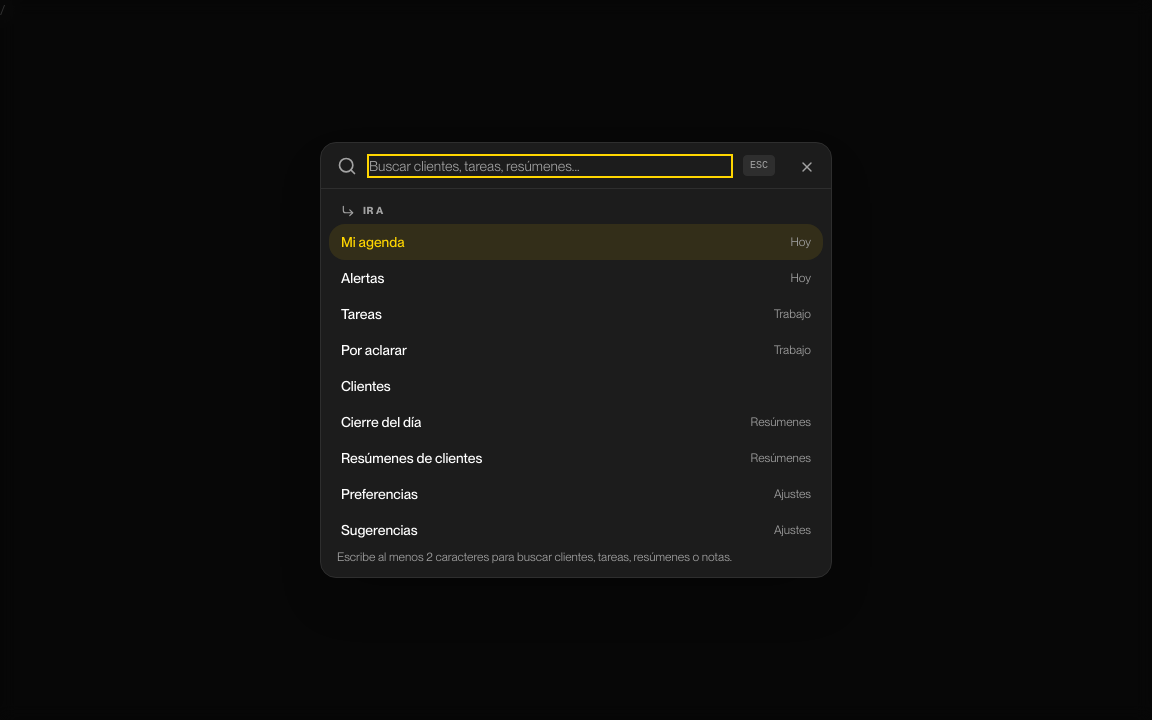
it: encuentra resúmenes y notas, y ofrece ir a la pantalla que casa con lo escrito
This screenshot has width=1152, height=720.
Type "resum" into the field labelled "Buscar" at {"x": 550, "y": 166}, box top-left (369, 156), bottom-right (731, 176)
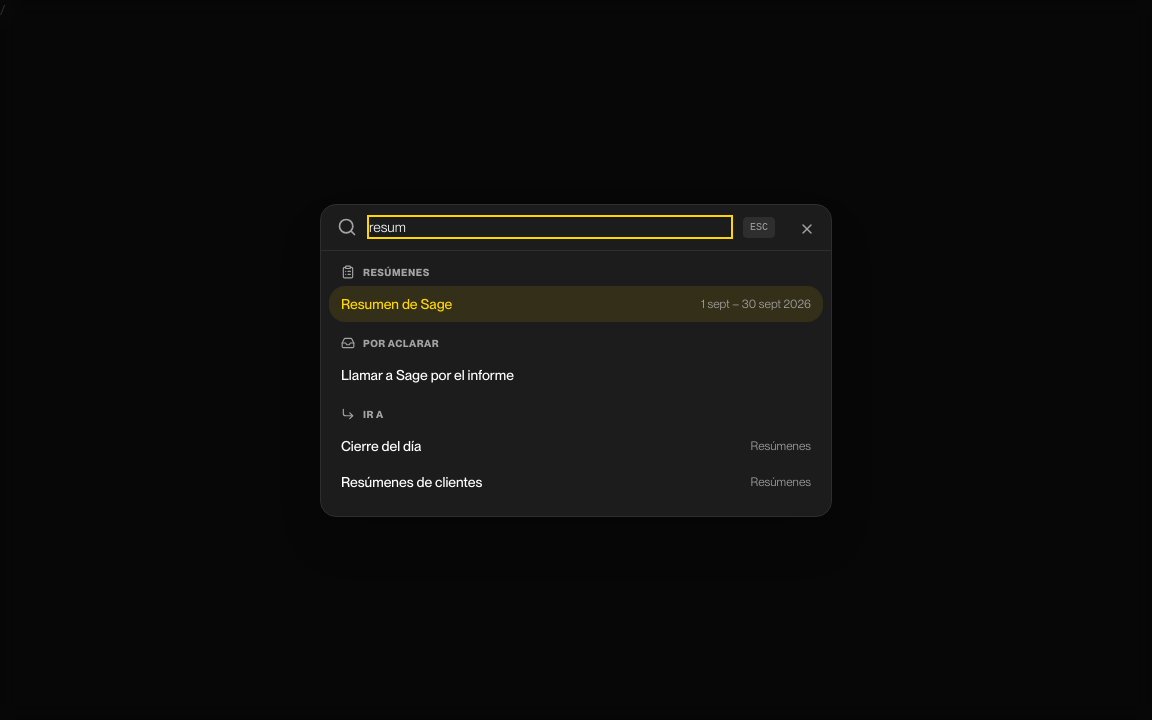
Expected: the button "Resúmenes de clientes Resúmenes" is shown, top-left (329, 464), bottom-right (823, 500)
Expected: the button "Resumen de Sage 1 sept – 30 sept 2026" is shown, top-left (329, 286), bottom-right (823, 322)
Expected: the button "Llamar a Sage por el informe" is shown, top-left (329, 356), bottom-right (823, 392)
